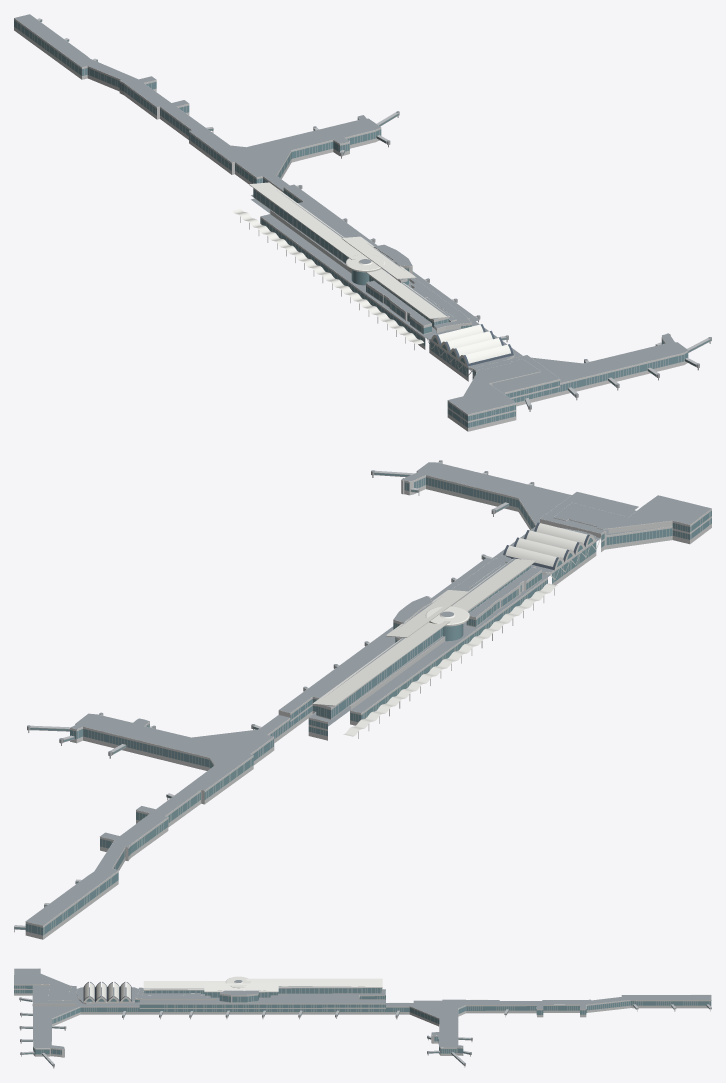
File: tokyo-haneda-terminal-2.detail.glb
The picture shows the model from 3 angles, top to bottom: view 1: azimuth 30°, elevation 25°; view 2: azimuth 150°, elevation 25°; view 3: azimuth 270°, elevation 25°; orthographic projection. The views are drawn at different scales.
Parts seen in each view (by area): view 1: Haneda Airport Terminal 2; view 2: Haneda Airport Terminal 2; view 3: Haneda Airport Terminal 2.
Boxes of the visible parts, bbox=[...] form: Haneda Airport Terminal 2: bbox=[14, 14, 711, 431]; Haneda Airport Terminal 2: bbox=[14, 460, 711, 939]; Haneda Airport Terminal 2: bbox=[14, 968, 711, 1068].
Size of the model in its own units: 414 by 44 by 1375.
